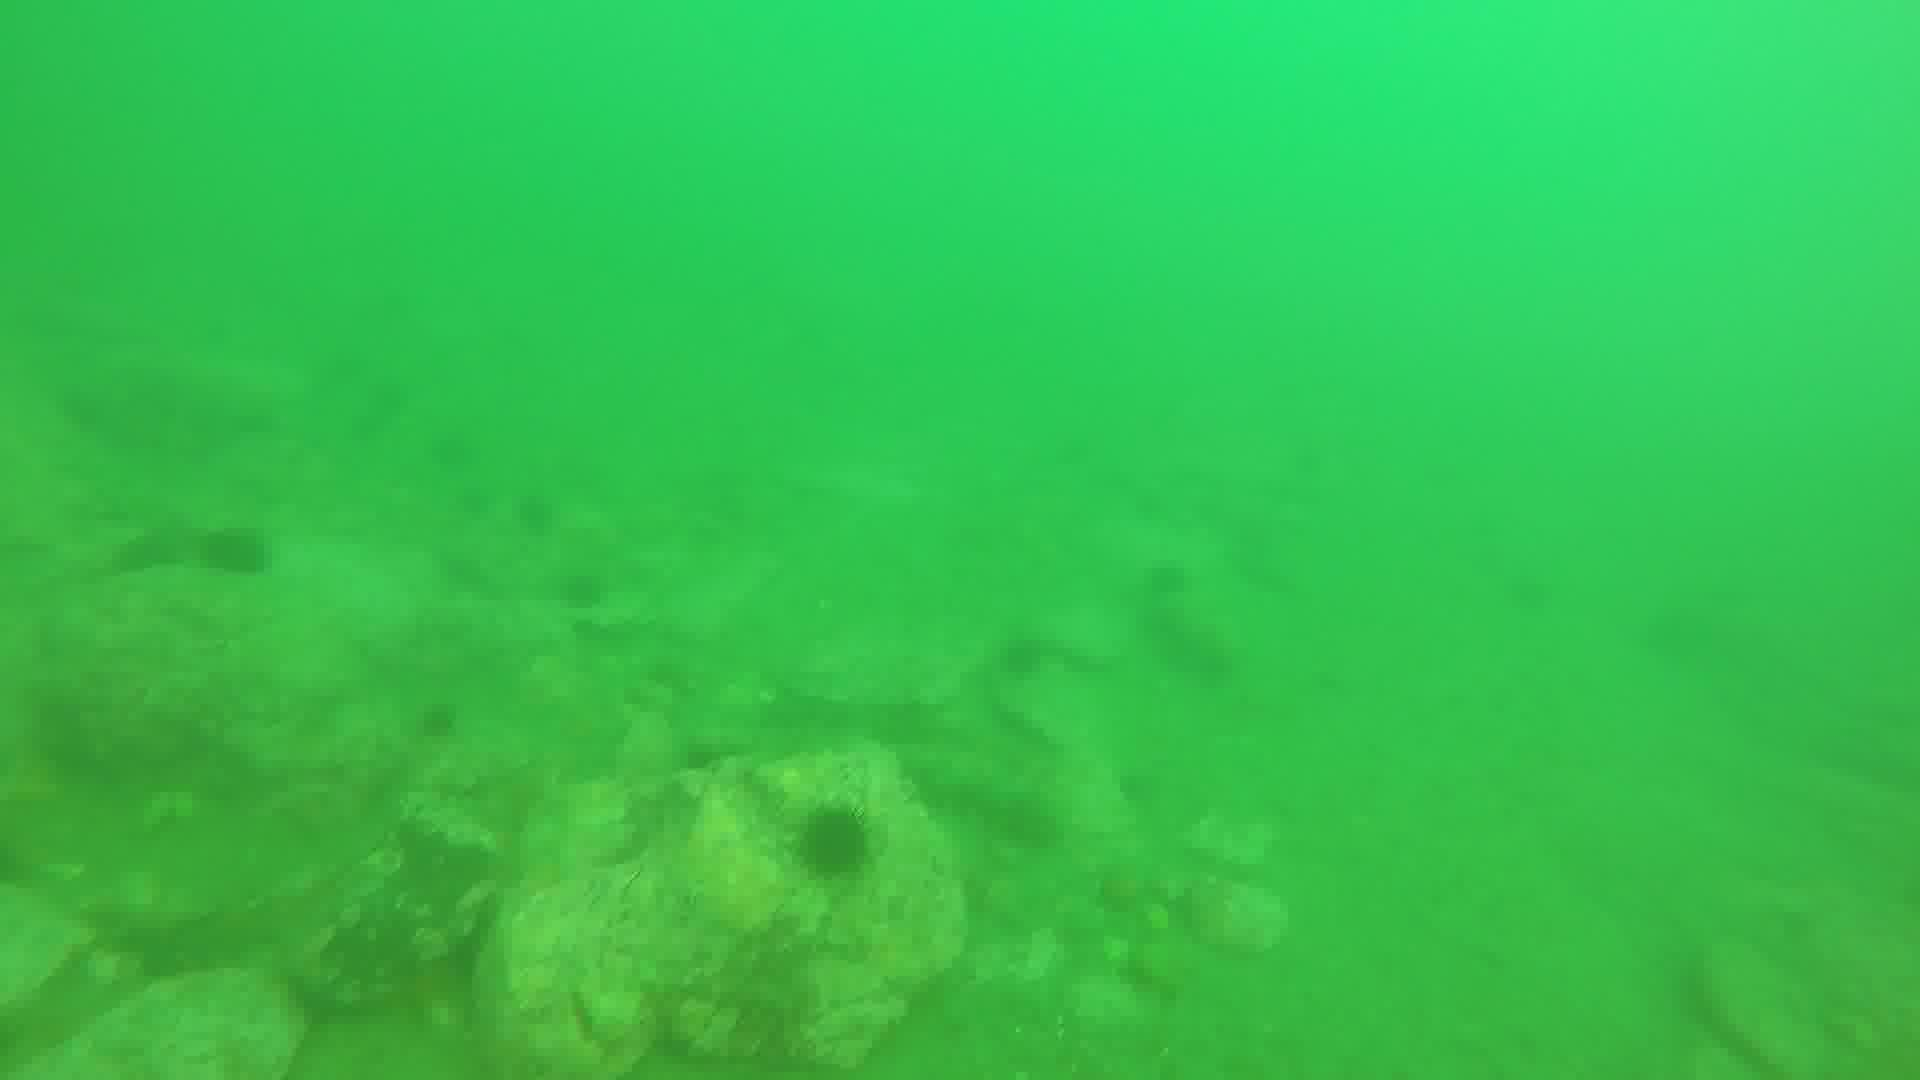echinus: (796, 808, 873, 877), (208, 531, 258, 578), (554, 570, 604, 609), (1147, 556, 1192, 600), (1001, 640, 1042, 675), (414, 702, 447, 733)
holothurian: (909, 748, 1059, 843)
